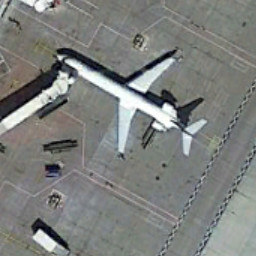Airplane: (38, 36, 218, 165)
